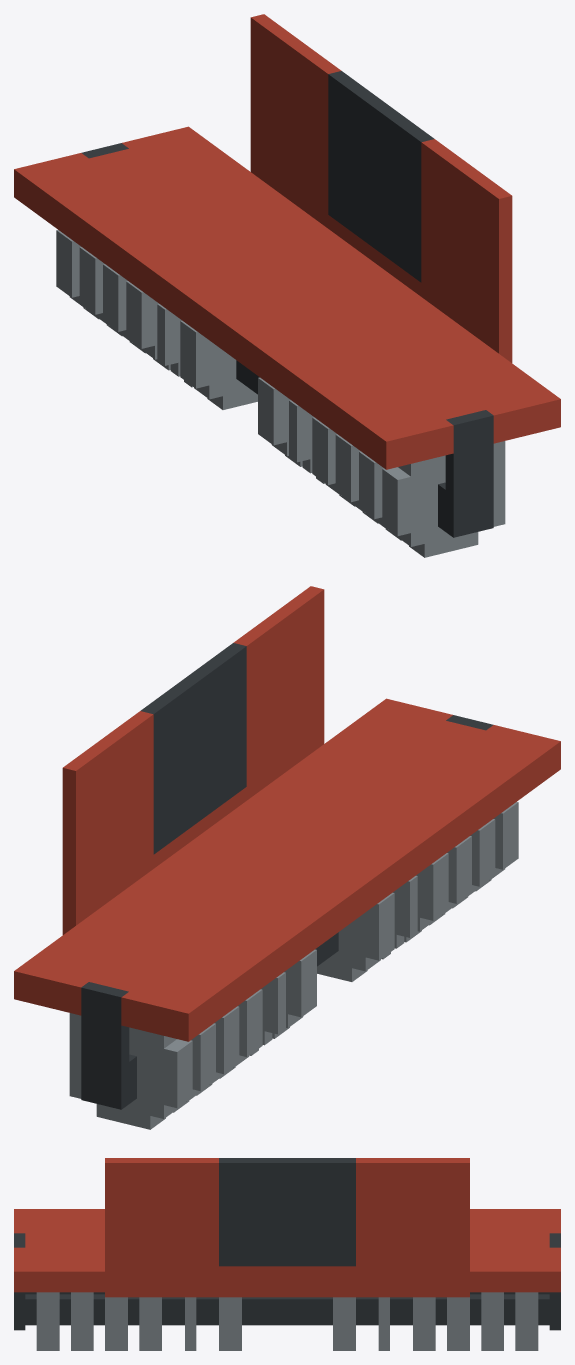
The model's file is trencher_spoil_auger.glb.
3 views of the same model, one above another, from view 1: azimuth 30°, elevation 25°; view 2: azimuth 150°, elevation 25°; view 3: azimuth 270°, elevation 25° (orthographic). The views are drawn at different scales.
Visible parts, largest first — view 1: body:compound; view 2: body:compound; view 3: body:compound.
Part boxes in pixels (left/top/right/bottom): body:compound: left=14, top=14, right=560, bottom=557; body:compound: left=14, top=586, right=560, bottom=1129; body:compound: left=14, top=1158, right=560, bottom=1350.
Size of the model in its own units: 0.4375 by 0.6562 by 1.5.
